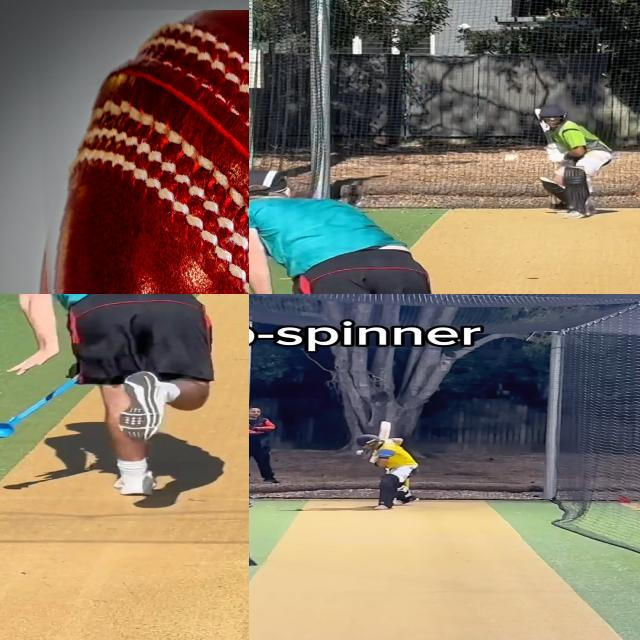Cricket ball: (33, 10, 249, 294), (500, 153, 522, 166), (356, 450, 364, 455)
